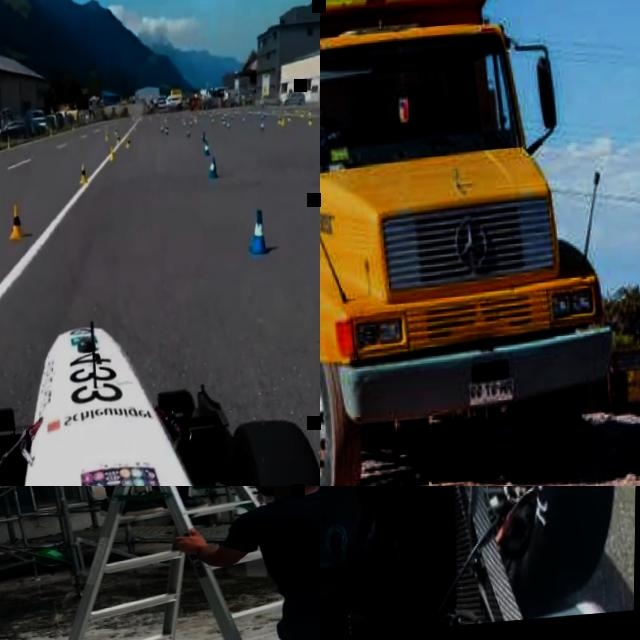NO-Hardhat: (425, 80, 445, 103)
NO-Mask: (252, 486, 269, 496)
NO-Safety Vest: (256, 487, 320, 623), (414, 113, 452, 137)
Person: (162, 486, 320, 640), (406, 80, 459, 136)
Safety Cone: (245, 207, 271, 258), (7, 199, 26, 241), (207, 155, 220, 182), (78, 161, 90, 187), (108, 144, 116, 164), (203, 141, 211, 156), (125, 136, 131, 151), (6, 133, 11, 150), (260, 123, 265, 136), (49, 127, 54, 139), (160, 122, 165, 134), (164, 125, 169, 137), (226, 124, 232, 134), (105, 129, 109, 143), (117, 134, 121, 147), (308, 118, 313, 128), (280, 119, 285, 129), (187, 128, 191, 140), (278, 115, 282, 126), (72, 124, 76, 132)
machinery: (320, 0, 629, 486)
vehicle: (0, 300, 320, 486), (320, 486, 640, 640)
